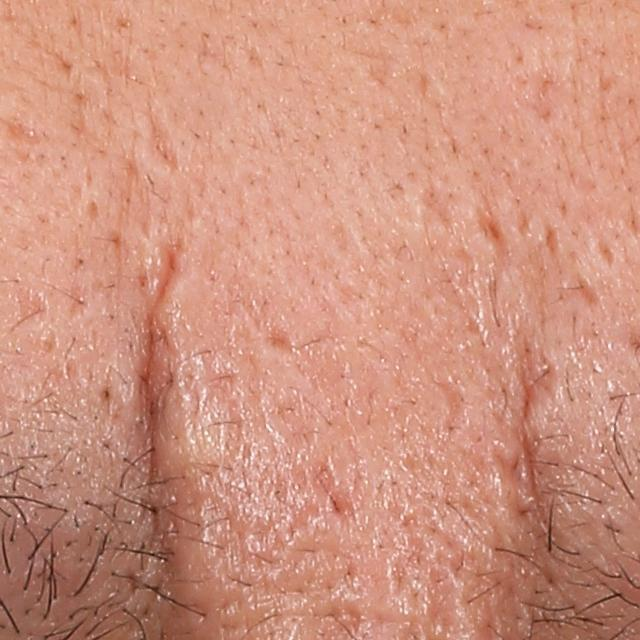atrophic_scar: (143, 109, 179, 174), (311, 467, 356, 519), (435, 371, 474, 427), (12, 286, 54, 330), (473, 197, 507, 247), (420, 185, 458, 228), (575, 268, 603, 309), (261, 327, 297, 353), (542, 217, 559, 260), (598, 241, 621, 271), (600, 74, 618, 97)
